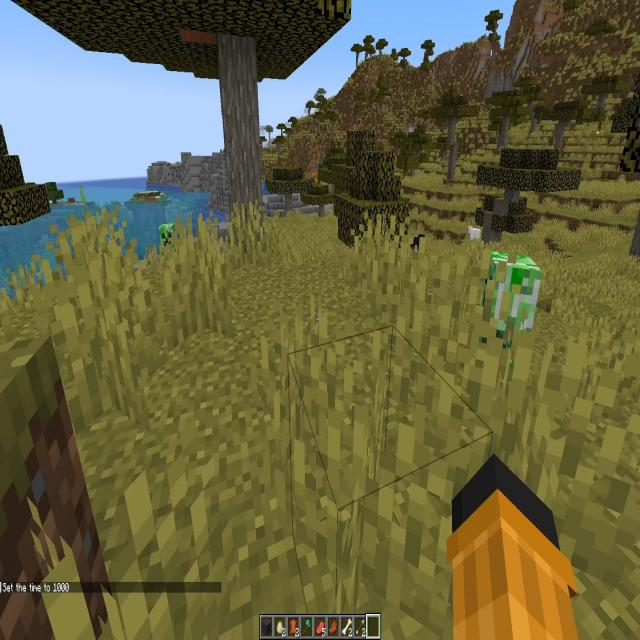Creeper: (484, 247, 536, 356), (160, 223, 176, 259)
Sheep: (409, 234, 425, 250), (469, 226, 481, 242)
